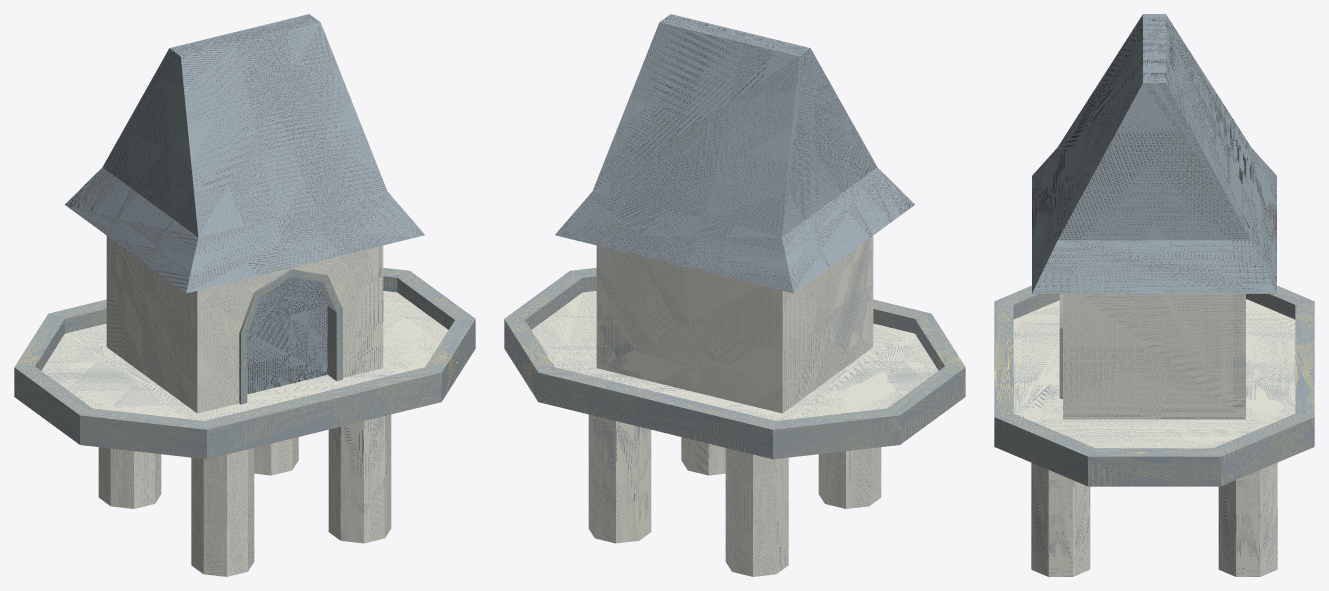
Rendered from Castle_Room_01.fbx.
3 renders of one model, left to right at view 1: azimuth 30°, elevation 25°; view 2: azimuth 150°, elevation 25°; view 3: azimuth 270°, elevation 25°, orthographic.
Visible parts, largest first — view 1: Model; view 2: Model; view 3: Model.
Part boxes in pixels (x1,y1,x2,y2): Model: [14, 14, 475, 576]; Model: [504, 14, 965, 576]; Model: [994, 14, 1314, 576].
Bounding box in the file's own units: 1775 × 2048 × 1233.
